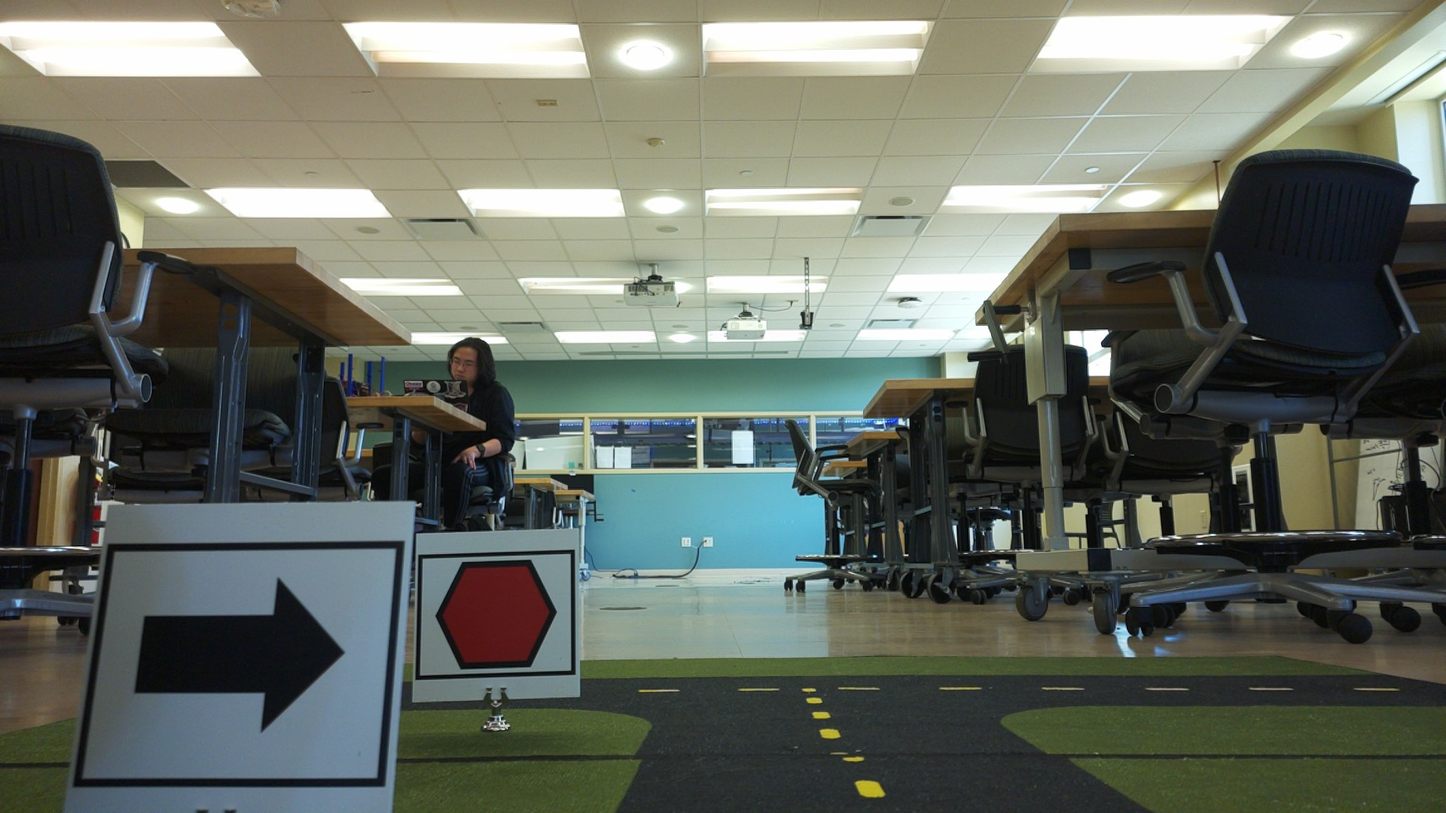stop: (421, 554, 572, 675)
turnright: (105, 545, 392, 793)
yellowline: (806, 696, 883, 802)
